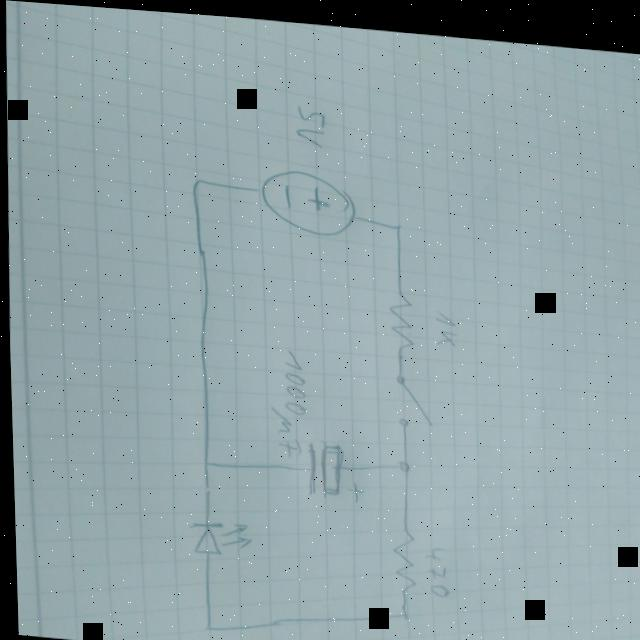capacitor: (302, 432, 364, 500)
diode: (184, 513, 250, 554)
junction: (389, 449, 413, 468), (195, 451, 215, 470), (197, 617, 219, 634), (187, 167, 209, 184), (392, 601, 415, 616), (387, 215, 407, 230)
resistor: (384, 516, 419, 591), (381, 279, 418, 347)
source: (255, 159, 356, 233)
switch: (390, 365, 433, 425)
text: (266, 341, 309, 454), (417, 536, 449, 594), (290, 96, 328, 143), (430, 301, 458, 340)
